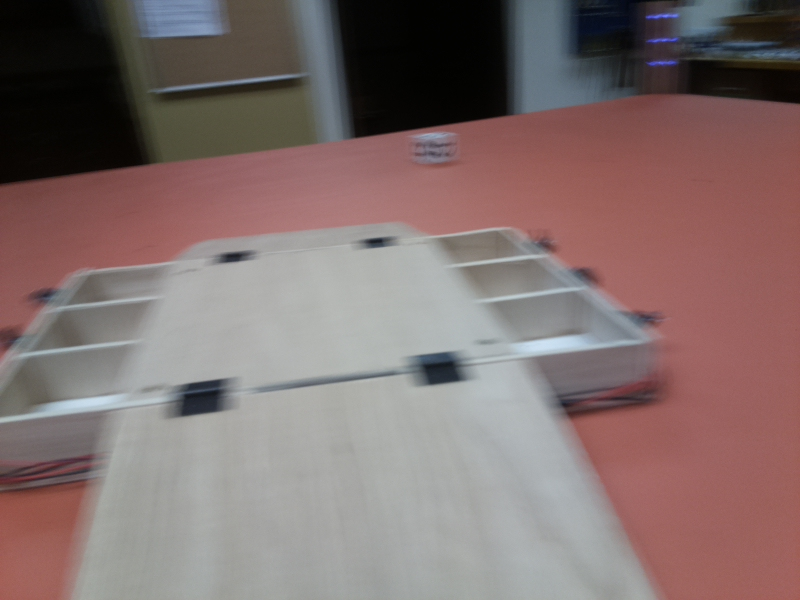blockD: (414, 131, 459, 169)
side: (509, 221, 666, 378), (5, 265, 82, 439)
slope: (65, 358, 662, 599), (179, 220, 439, 262)
